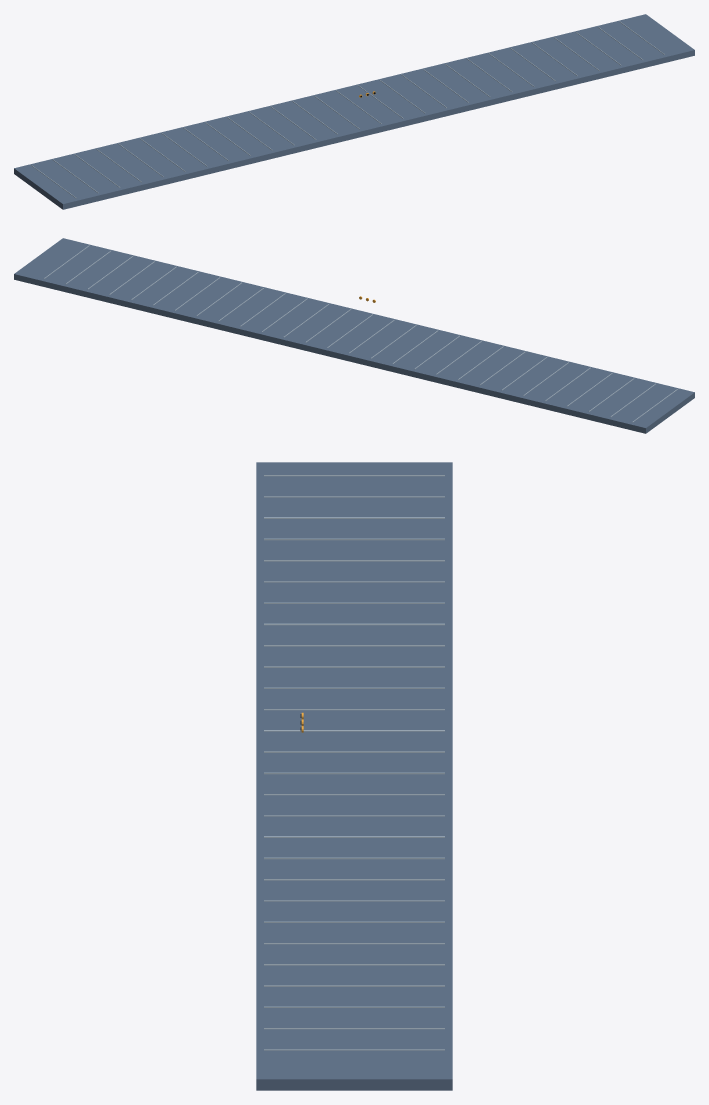
File: 08_L90_PropulsionControlWalkway.fbx
The picture shows the model from 3 angles, top to bottom: view 1: azimuth 30°, elevation 25°; view 2: azimuth 150°, elevation 25°; view 3: azimuth 270°, elevation 25°; orthographic projection. The views are drawn at different scales.
Parts seen in each view (by area): view 1: L90_PropulsionControlWalkway; view 2: L90_PropulsionControlWalkway; view 3: L90_PropulsionControlWalkway.
Part boxes in pixels (x1,y1,x2,y2): L90_PropulsionControlWalkway: (14,14,694,209); L90_PropulsionControlWalkway: (14,238,694,433); L90_PropulsionControlWalkway: (256,462,452,1090).
Size of the model in its own units: 2900 by 137 by 390.
